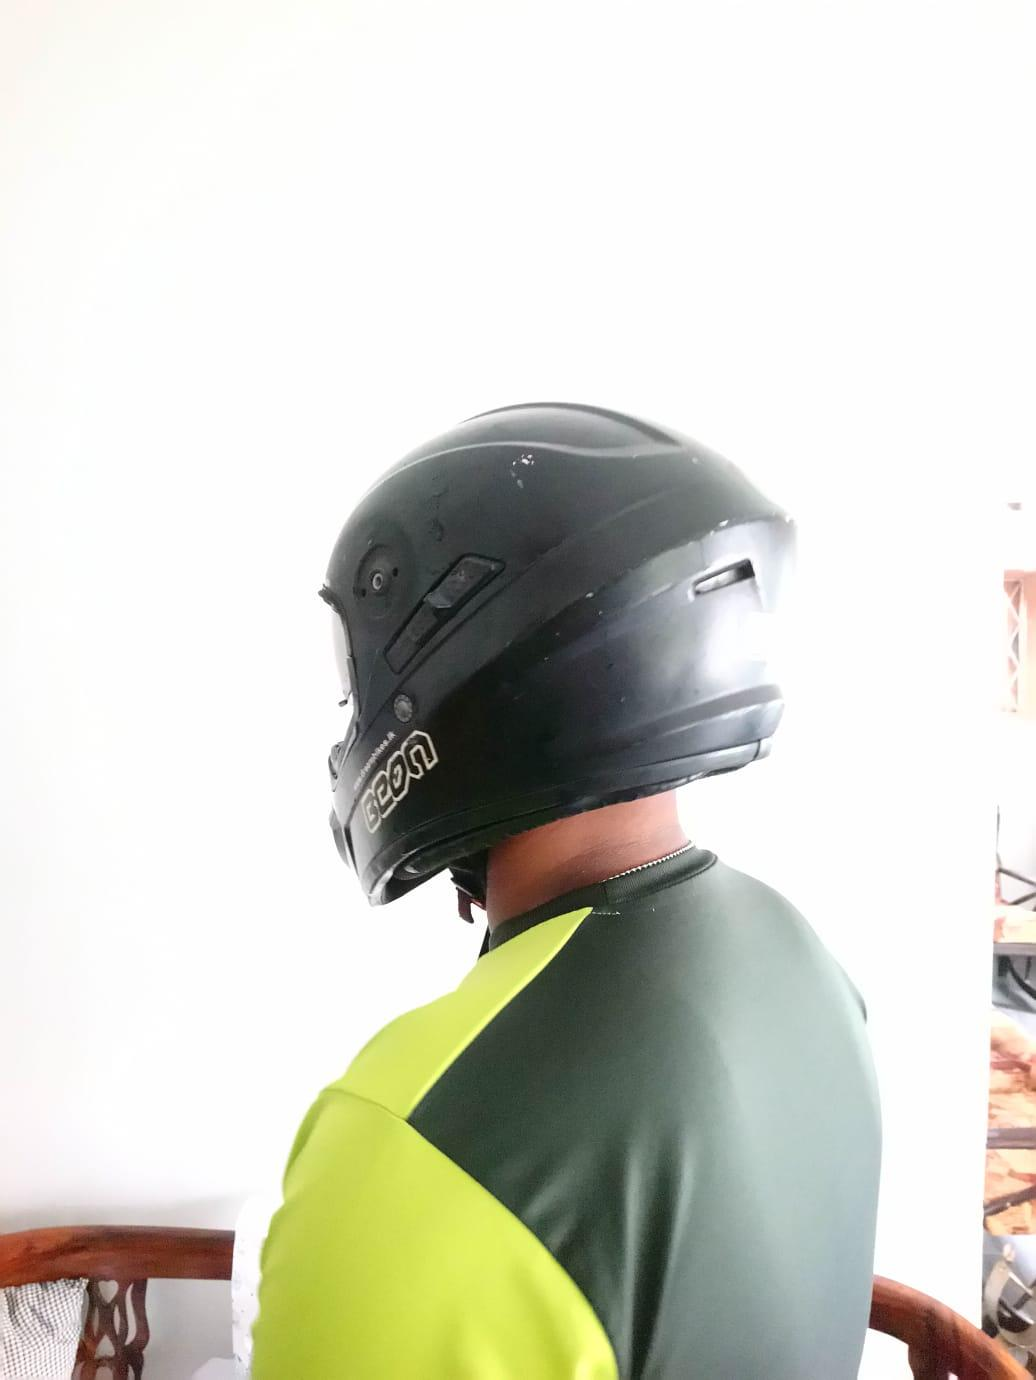helmet: (316, 398, 800, 905)
